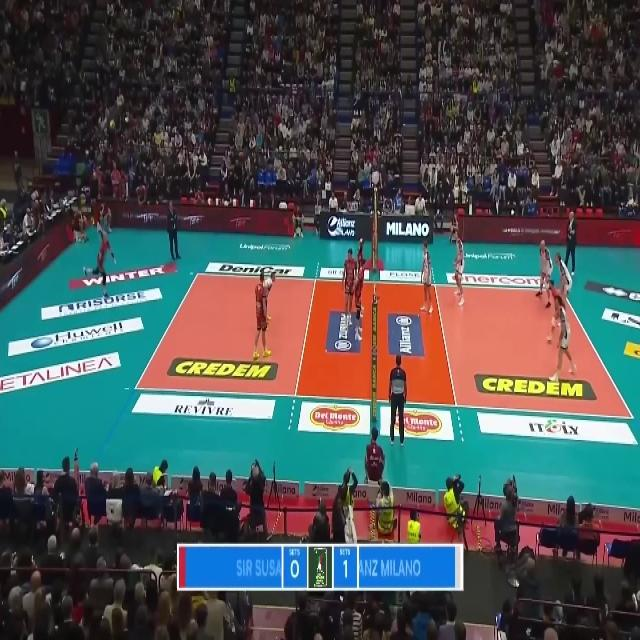volleyball court: (133, 269, 634, 419)
